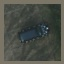car: (19, 22, 49, 44)
